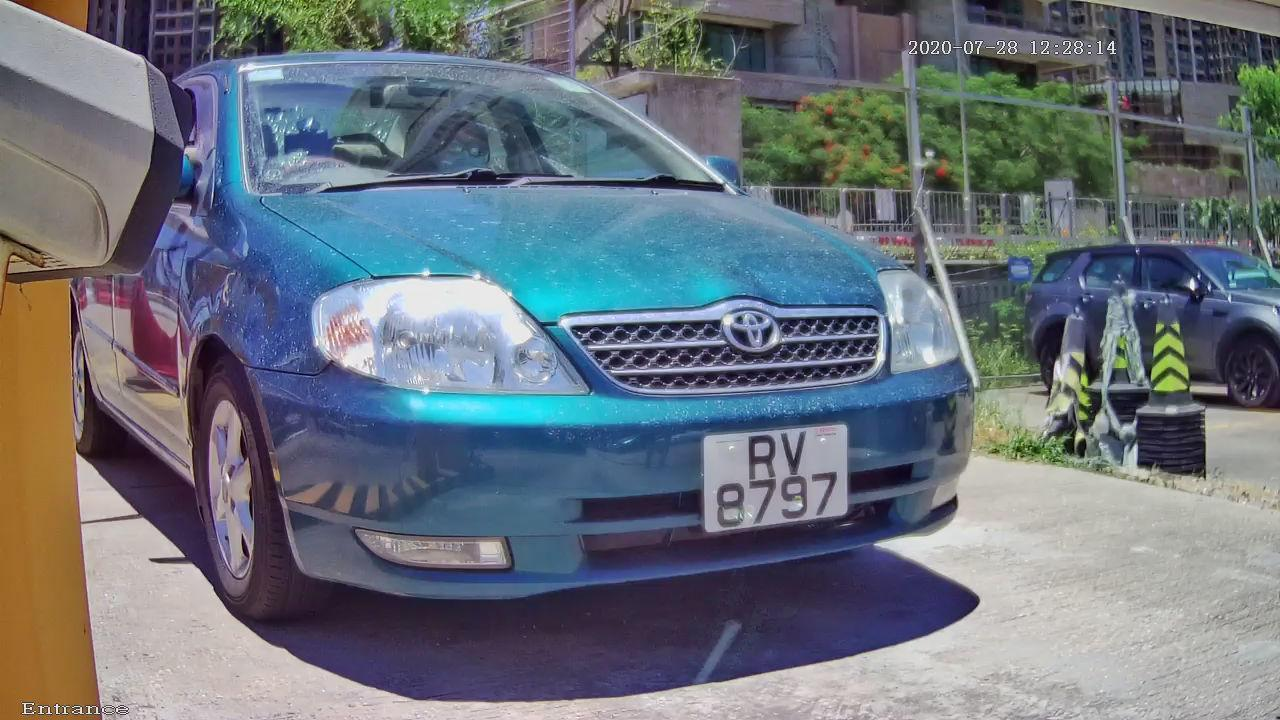privatecar: (18, 26, 1109, 692)
